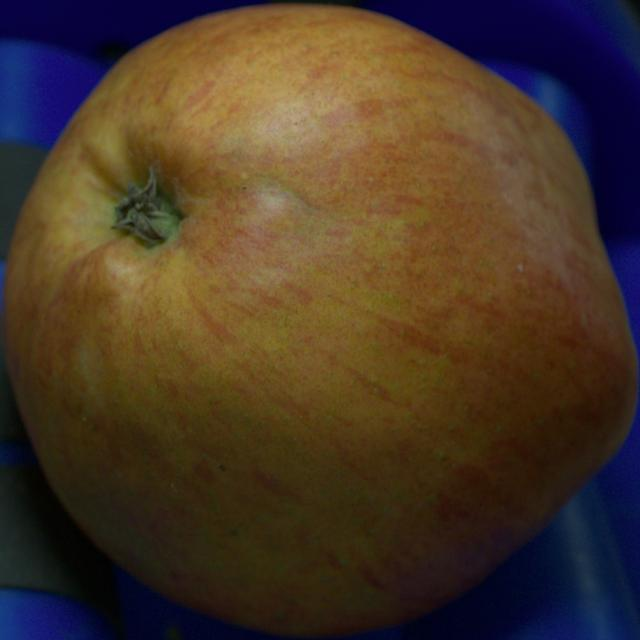apple: (1, 5, 638, 636)
